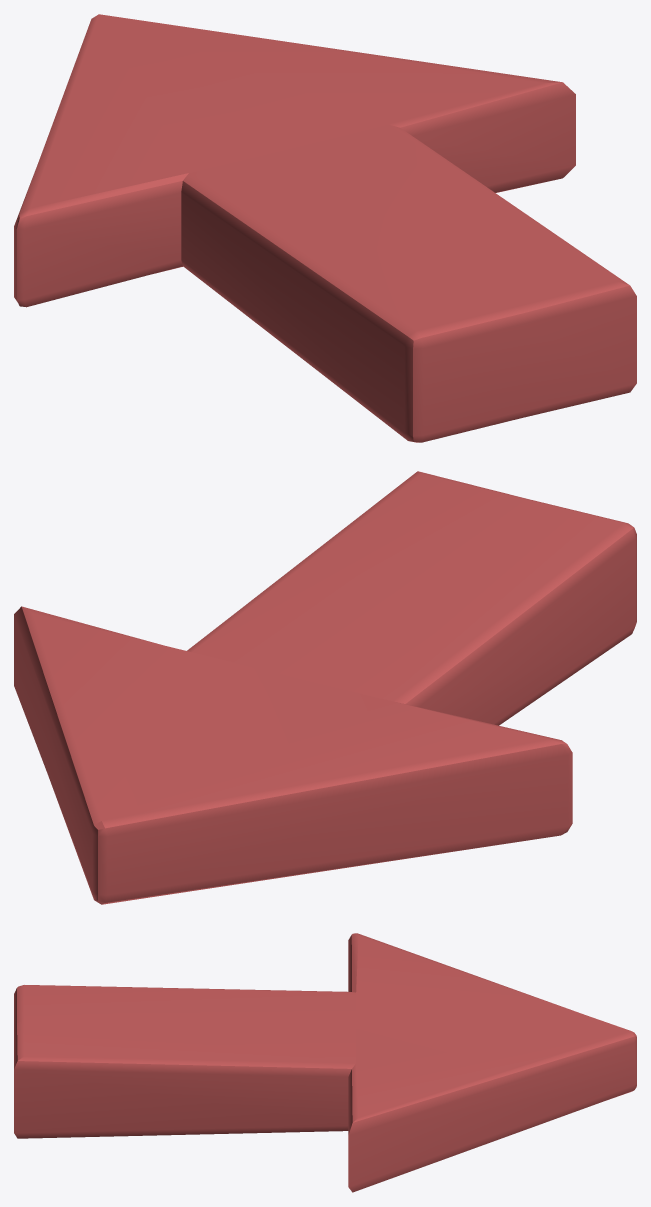
The model's file is Arrow_01_unity.fbx.
3 renders of one model, top to bottom at view 1: azimuth 30°, elevation 25°; view 2: azimuth 150°, elevation 25°; view 3: azimuth 270°, elevation 25°, orthographic. The views are drawn at different scales.
Parts seen in each view (by area): view 1: polySurface1; view 2: polySurface1; view 3: polySurface1.
Boxes of the visible parts, x1,y1,x2,y2 form: polySurface1: (14,14,636,442); polySurface1: (14,471,636,904); polySurface1: (14,933,636,1192).
Size of the model in its own units: 4.31 by 0.8271 by 5.75.
